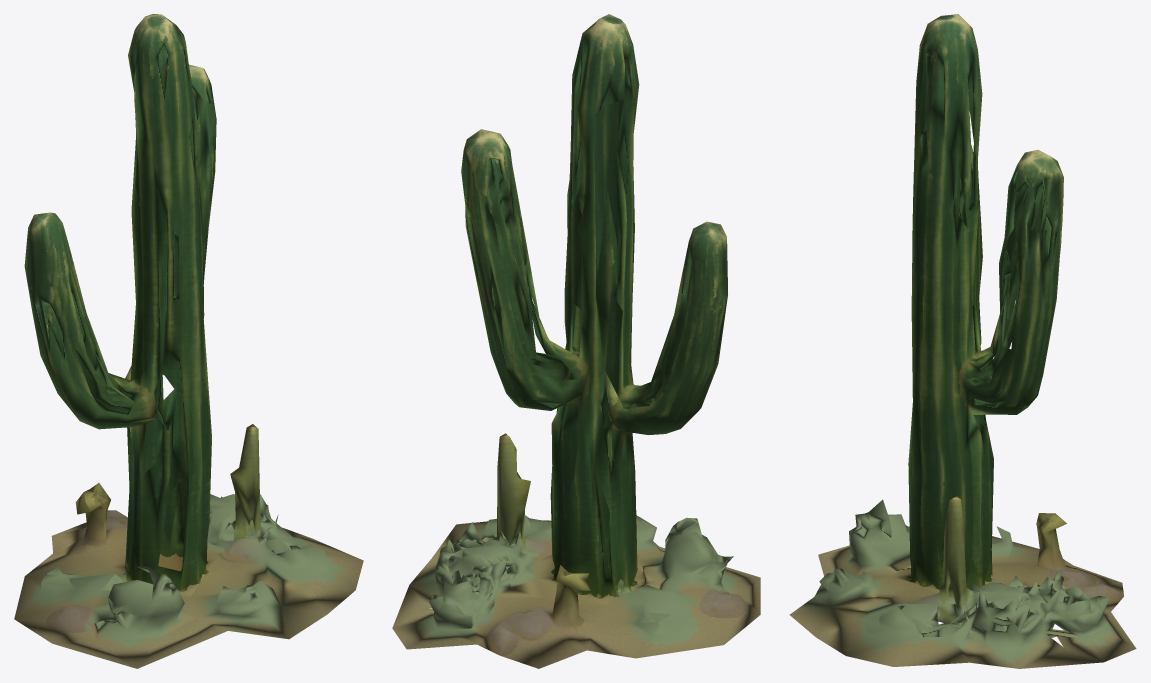
File: cactus.glb
3 renders of one model, left to right at view 1: azimuth 30°, elevation 25°; view 2: azimuth 150°, elevation 25°; view 3: azimuth 270°, elevation 25°, orthographic.
Visible parts, largest first — view 1: geometry_0; view 2: geometry_0; view 3: geometry_0.
Part boxes in pixels (left/top/right/bottom): geometry_0: left=14, top=14, right=363, bottom=668; geometry_0: left=392, top=14, right=760, bottom=668; geometry_0: left=789, top=14, right=1136, bottom=668.
Bounding box in the file's own units: 0.5446 × 0.9871 × 0.5347.
Materials: 1 (1 with a texture image).
